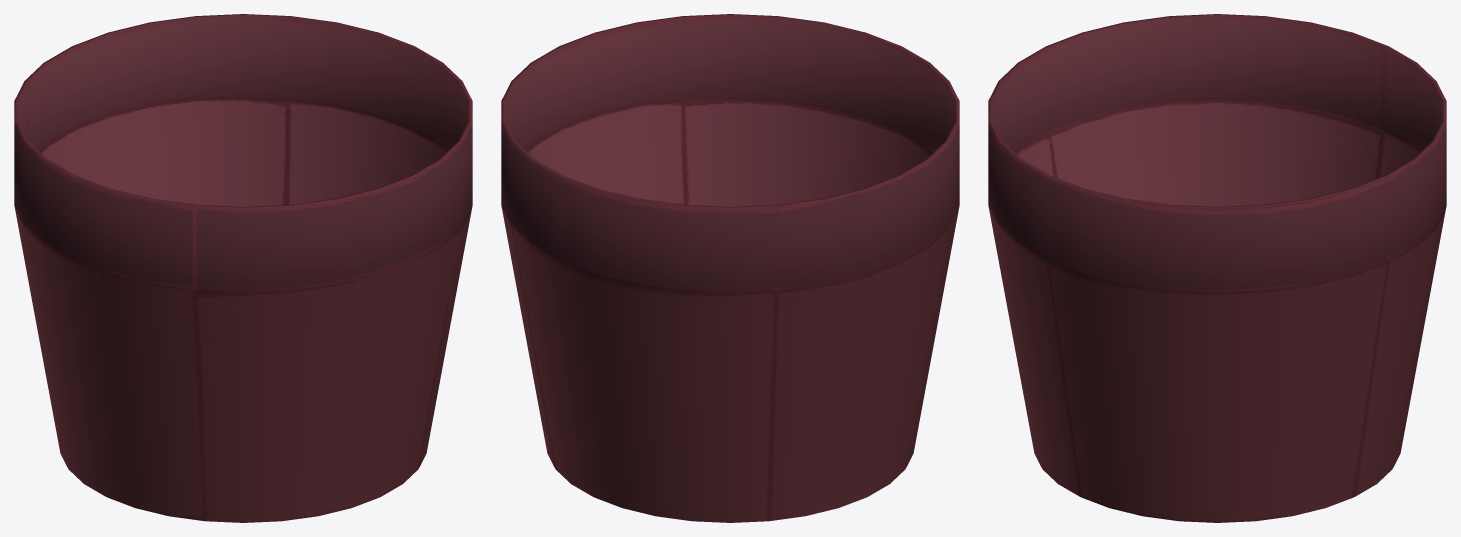
Rendered from Camera_Pot.fbx.
3 views of the same model, side by side, from view 1: azimuth 30°, elevation 25°; view 2: azimuth 150°, elevation 25°; view 3: azimuth 270°, elevation 25° (orthographic).
Visible parts, largest first — view 1: Cylinder001; view 2: Cylinder001; view 3: Cylinder001.
Part boxes in pixels (box(x1,y1,x2,y2)): Cylinder001: box(14, 14, 472, 522); Cylinder001: box(501, 14, 959, 522); Cylinder001: box(988, 14, 1446, 522).
Bounding box in the file's own units: 50.06 × 40 × 49.79.
Materials: 1 (1 with a texture image).
